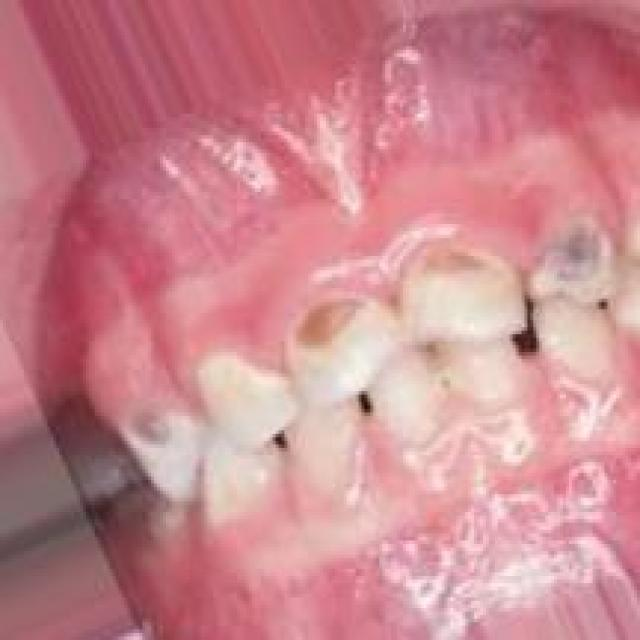caries: (514, 201, 625, 320), (398, 238, 520, 346), (282, 284, 392, 401), (114, 395, 208, 499)
